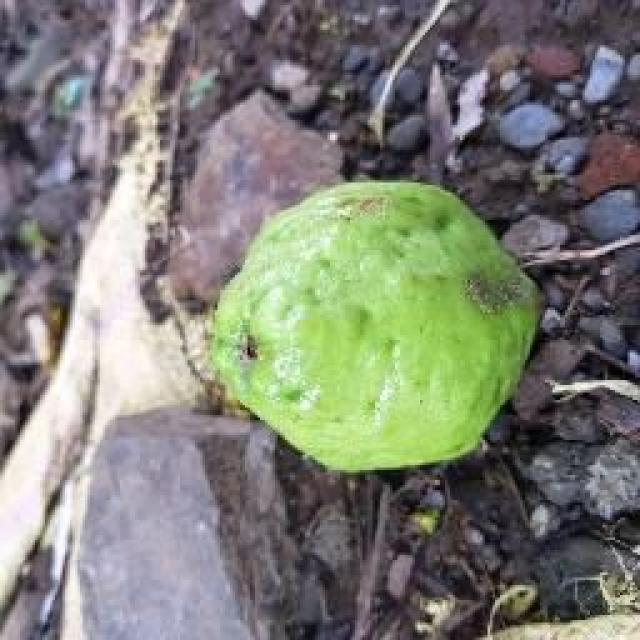Good_Guava: (208, 180, 545, 472)
